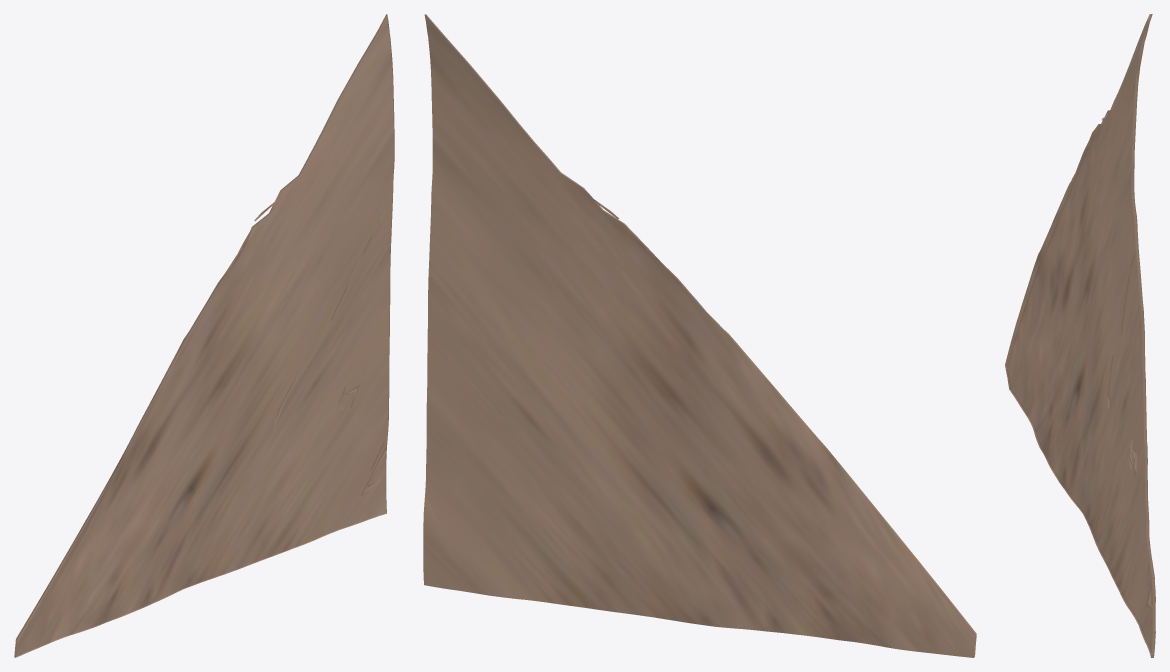
3 views of the same model, side by side, from view 1: azimuth 30°, elevation 25°; view 2: azimuth 150°, elevation 25°; view 3: azimuth 270°, elevation 25° (orthographic). The views are drawn at different scales.
Size of the model in its own units: 10.95 by 12.25 by 2.6.
Materials: 1 (1 with a texture image).
